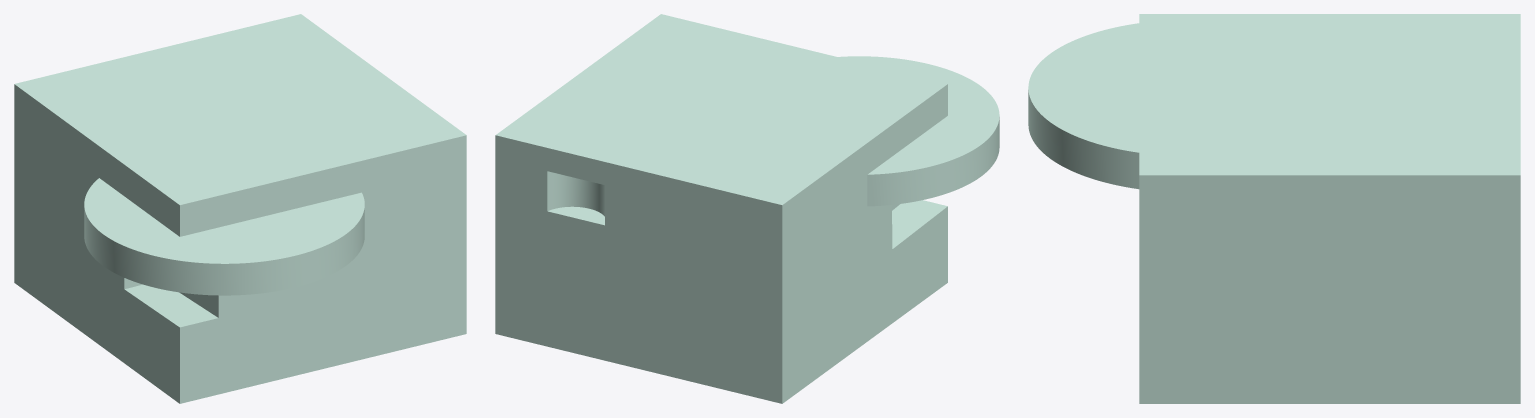
3 renders of one model, left to right at view 1: azimuth 30°, elevation 25°; view 2: azimuth 150°, elevation 25°; view 3: azimuth 270°, elevation 25°, orthographic. The views are drawn at different scales.
Parts seen in each view (by area): view 1: Renderer Node; view 2: Renderer Node; view 3: Renderer Node.
Part boxes in pixels (<box>): Renderer Node: <box>14,14,466,403</box>; Renderer Node: <box>495,14,999,403</box>; Renderer Node: <box>1028,14,1520,403</box>.
Size of the model in its own units: 1.32 by 0.7344 by 1.43.
